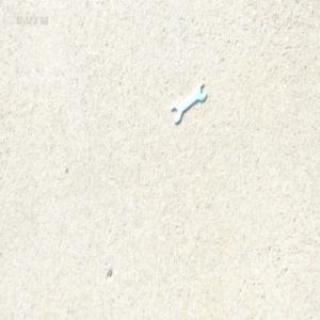Wrenchtrack_idkeyframe: (170, 81, 204, 122)
